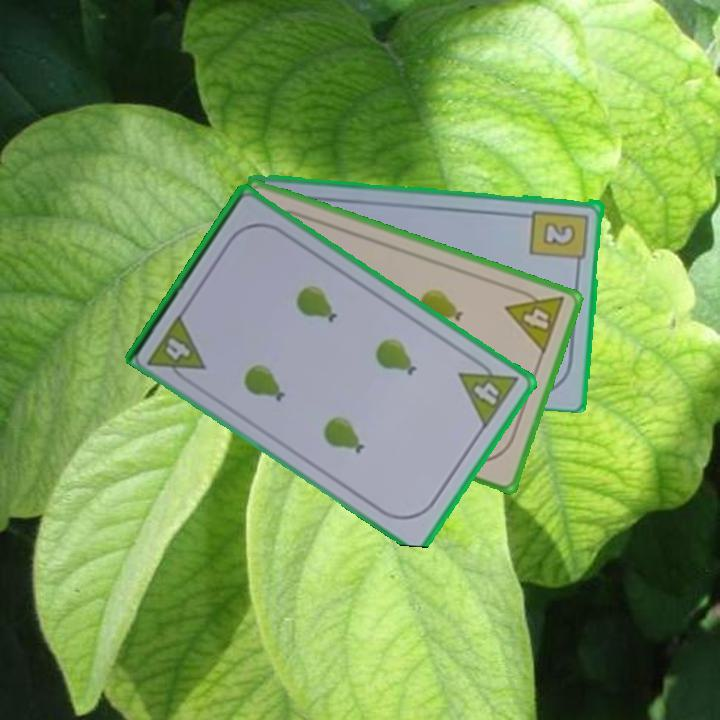2b: (527, 206, 592, 271)
4p: (455, 351, 522, 431), (144, 309, 208, 388), (502, 283, 568, 357)
